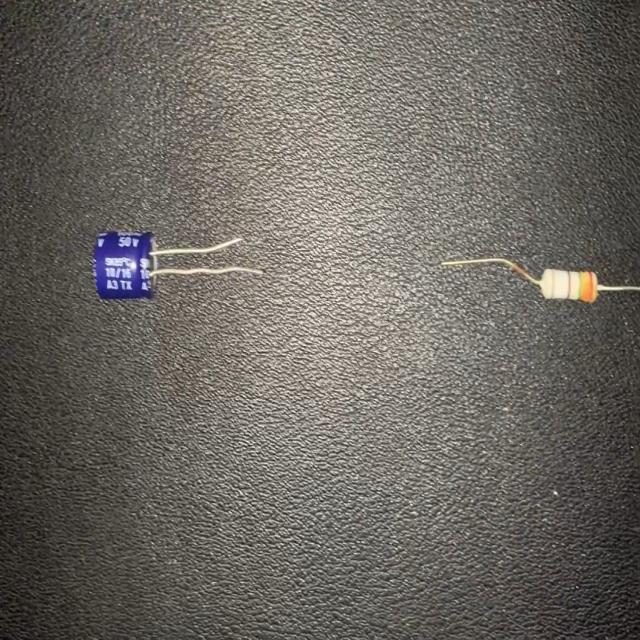burnt: (574, 265, 598, 299)
capacitor: (94, 229, 264, 299)
resistor: (441, 249, 640, 304)
rust: (510, 261, 528, 285)
